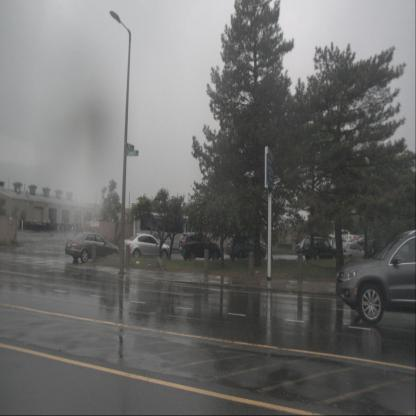vehicle-car: (336, 229, 416, 325), (64, 232, 118, 263), (124, 233, 171, 260), (178, 232, 221, 260), (226, 235, 266, 260), (303, 236, 336, 261), (363, 239, 387, 260), (295, 237, 320, 255), (339, 242, 366, 258), (355, 237, 370, 248), (351, 235, 367, 243)
